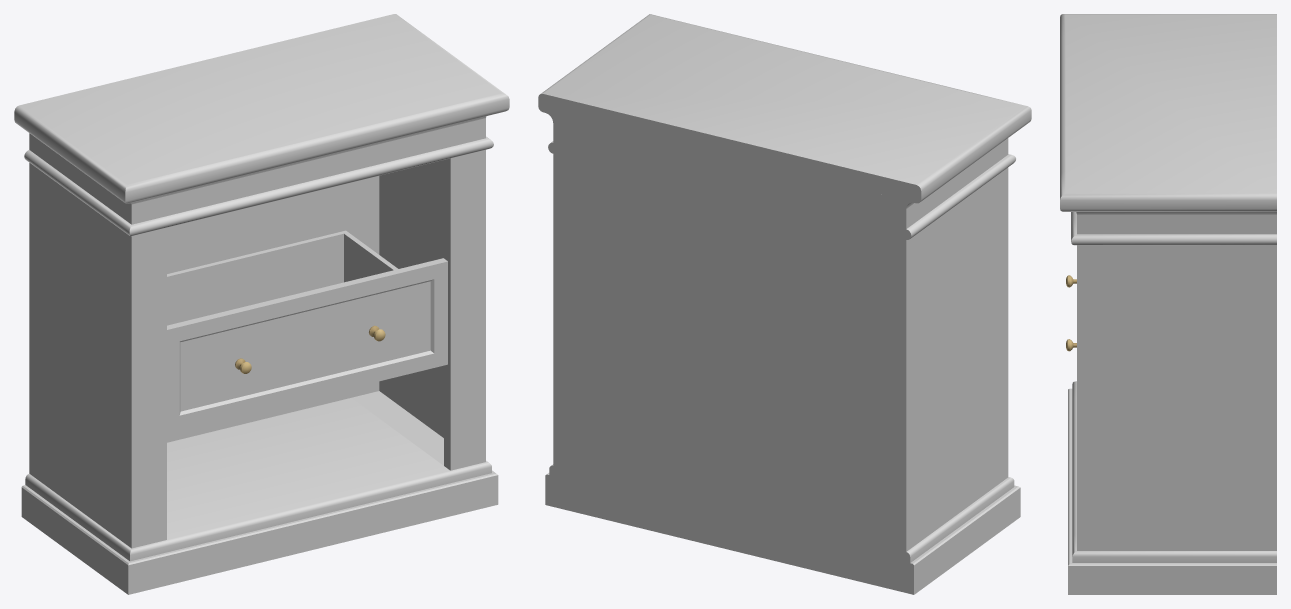
File: dresser.glb
3 views of the same model, side by side, from view 1: azimuth 30°, elevation 25°; view 2: azimuth 150°, elevation 25°; view 3: azimuth 270°, elevation 25° (orthographic). The views are drawn at different scales.
Parts seen in each view (by area): view 1: carcass, drawer; view 2: carcass; view 3: carcass.
Part boxes in pixels (box(x1,y1,x2,y2)): carcass: box(14, 14, 509, 594); drawer: box(167, 230, 447, 432); carcass: box(538, 14, 1031, 594); carcass: box(1060, 14, 1276, 594).
Bounding box in the file's own units: 0.976 × 1 × 0.488.
1 material, 1 textured.
